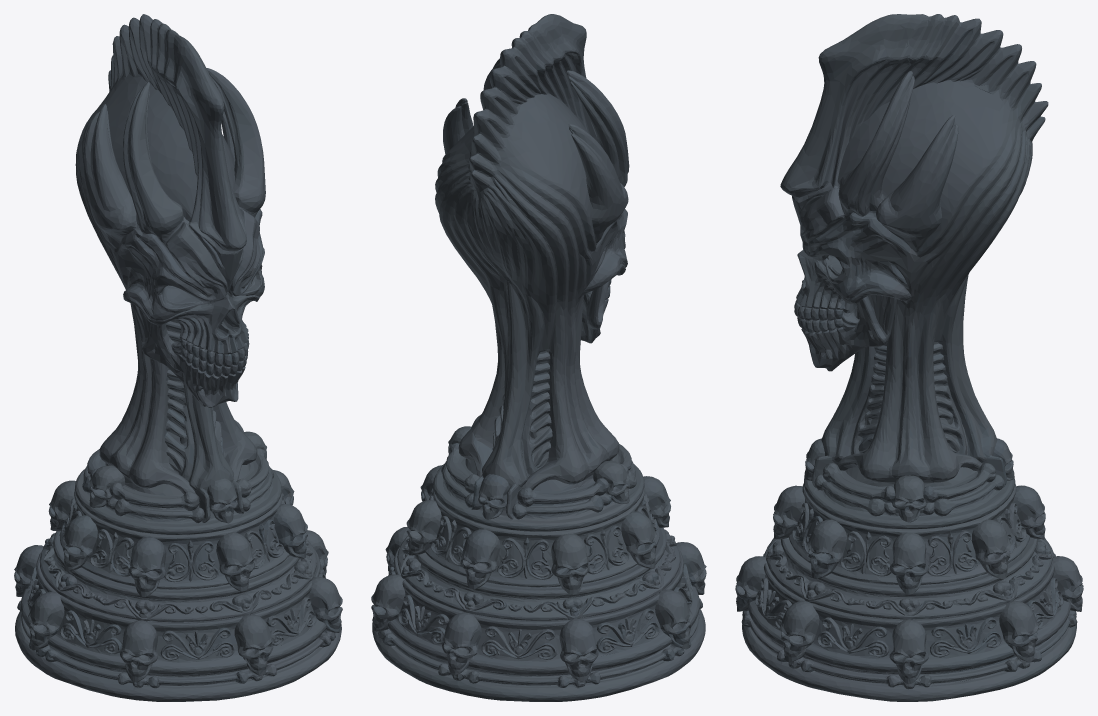
3 renders of one model, left to right at view 1: azimuth 30°, elevation 25°; view 2: azimuth 150°, elevation 25°; view 3: azimuth 270°, elevation 25°, orthographic. The views are drawn at different scales.
Parts seen in each view (by area): view 1: 3MF Object.006; view 2: 3MF Object.006; view 3: 3MF Object.006.
Part boxes in pixels (box(x1,y1,x2,y2)): 3MF Object.006: box(14, 14, 342, 701); 3MF Object.006: box(371, 14, 706, 701); 3MF Object.006: box(735, 14, 1083, 701).
Bounding box in the file's own units: 0.042 × 0.0818 × 0.0419.
Materials: 1 (1 with a texture image).
